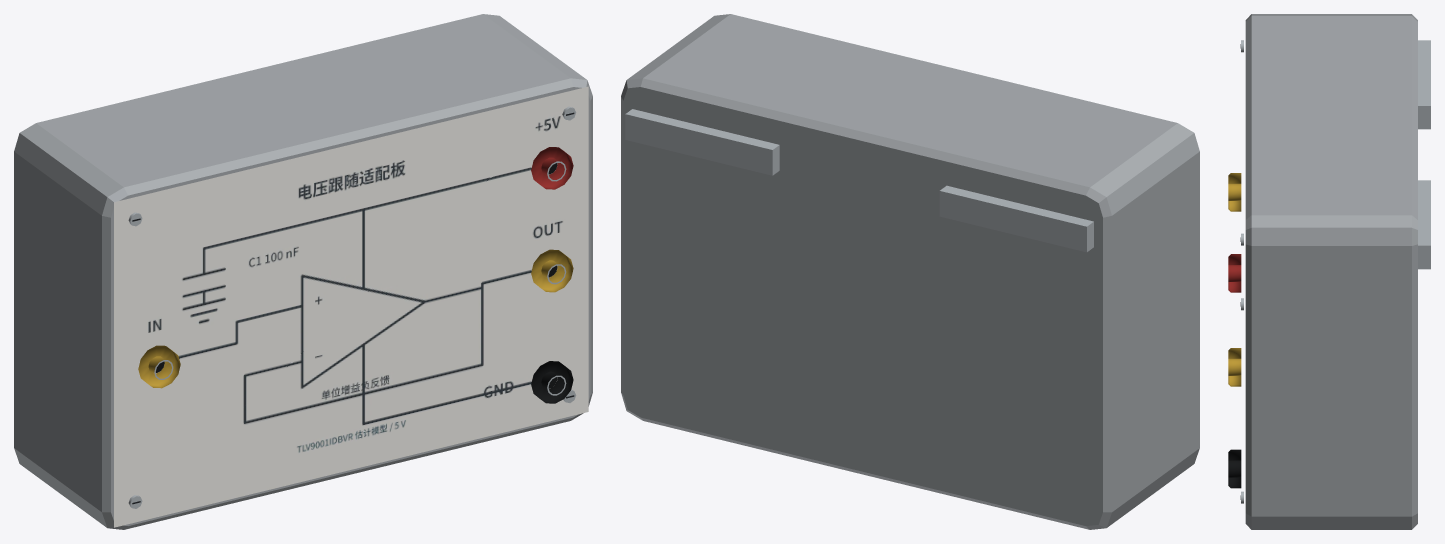
File: module.glb
3 renders of one model, left to right at view 1: azimuth 30°, elevation 25°; view 2: azimuth 150°, elevation 25°; view 3: azimuth 270°, elevation 25°, orthographic. The views are drawn at different scales.
Visible parts, largest first — view 1: PANEL_silkscreen, STATIC_paint, STATIC_metal; view 2: STATIC_paint, STATIC_metal; view 3: STATIC_paint, STATIC_metal.
Part boxes in pixels (box(x1,y1,x2,y2)): PANEL_silkscreen: box(114, 86, 588, 527); STATIC_paint: box(14, 14, 592, 529); STATIC_metal: box(128, 106, 576, 508); STATIC_paint: box(621, 14, 1199, 529); STATIC_metal: box(625, 109, 1093, 252); STATIC_paint: box(1228, 14, 1417, 529); STATIC_metal: box(1241, 40, 1430, 503).
Size of the model in its own units: 0.12 by 0.08 by 0.047.
3 materials, 1 textured.
